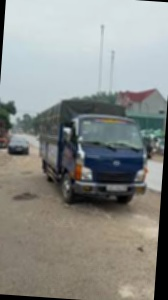Bien-so: (107, 184, 129, 192)
